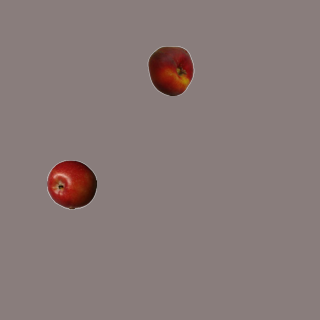Apple Braeburn: (46, 159, 96, 209)
Nectarine Flat: (145, 45, 195, 95)
